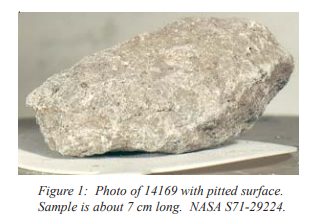Breccia: (18, 12, 292, 160), (186, 15, 300, 109), (95, 64, 227, 145)
